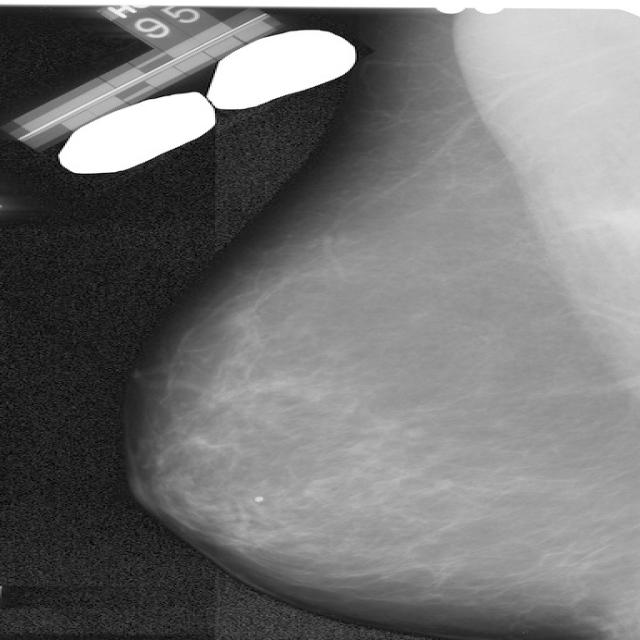tumour: (222, 306, 258, 328)
